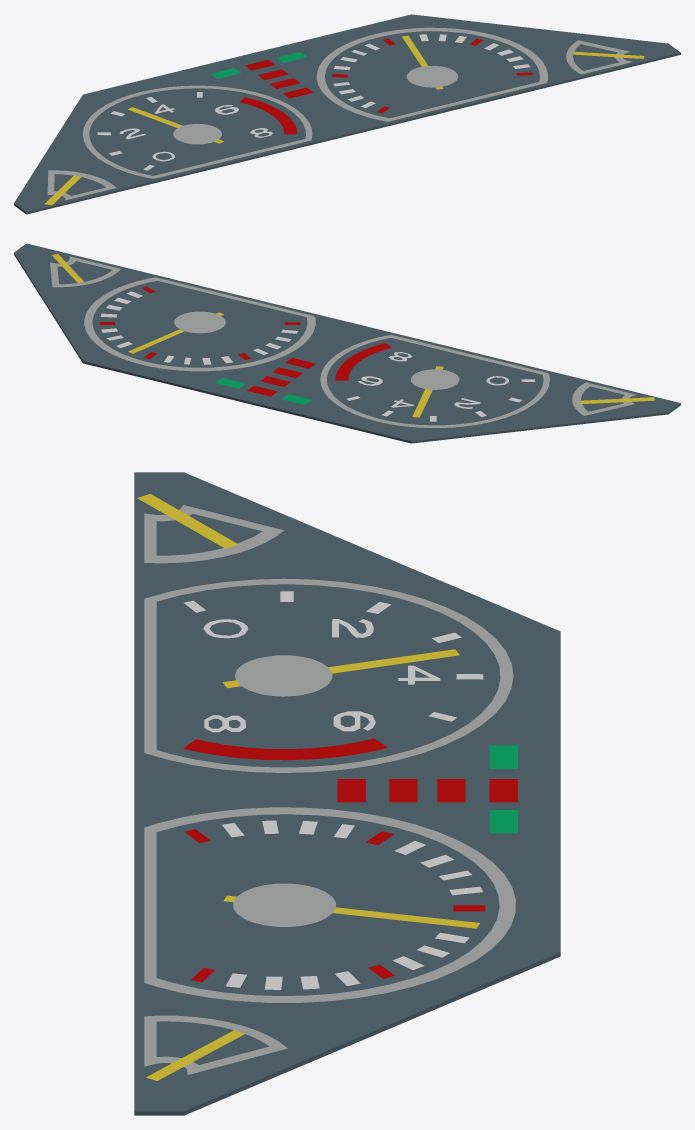
3 views of the same model, one above another, from view 1: azimuth 30°, elevation 25°; view 2: azimuth 150°, elevation 25°; view 3: azimuth 270°, elevation 25° (orthographic). The views are drawn at different scales.
Visible parts, largest first — view 1: world; view 2: world; view 3: world.
Boxes of the visible parts, left/top/right/bottom form: world: left=14, top=14, right=680, bottom=214; world: left=14, top=243, right=680, bottom=443; world: left=134, top=472, right=560, bottom=1115.
Size of the model in its own units: 0.0312 by 0.0001 by 0.0088.
